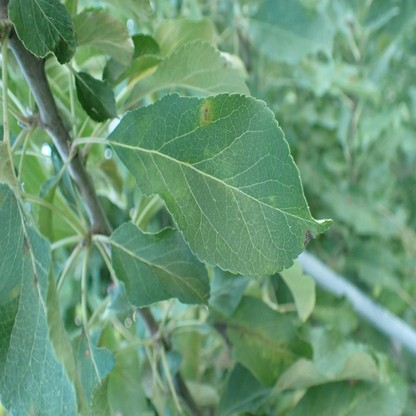scab: (226, 312, 291, 364), (141, 157, 194, 200), (202, 147, 240, 184), (199, 99, 214, 128), (20, 233, 34, 255), (302, 226, 318, 245), (7, 282, 22, 298), (33, 272, 40, 287), (29, 402, 34, 416)
